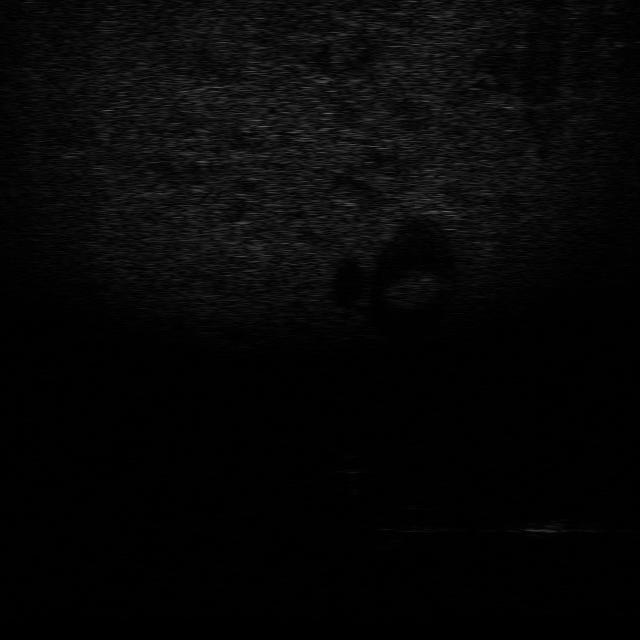ball: (326, 448, 372, 476)
metal bucket: (515, 510, 595, 542)
tyre: (372, 502, 453, 534)
